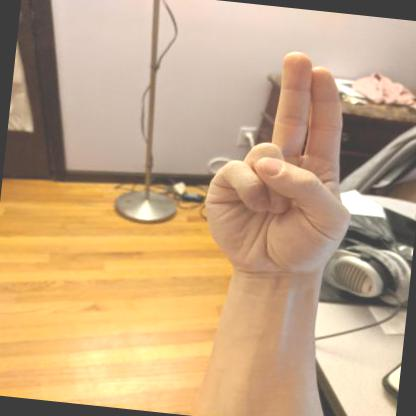U: (204, 51, 350, 283)
